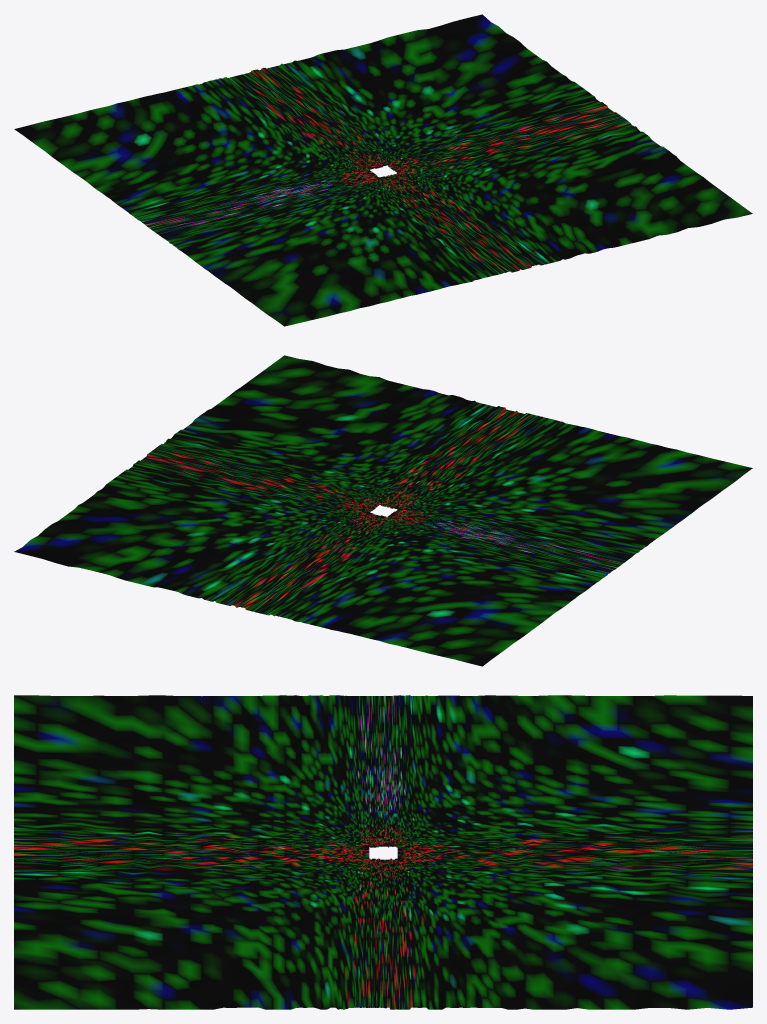
The model's file is SM_AlUla_Backdrop.fbx.
The picture shows the model from 3 angles, top to bottom: view 1: azimuth 30°, elevation 25°; view 2: azimuth 150°, elevation 25°; view 3: azimuth 270°, elevation 25°; orthographic projection. The views are drawn at different scales.
Visible parts, largest first — view 1: SM_AlUla_Backdrop; view 2: SM_AlUla_Backdrop; view 3: SM_AlUla_Backdrop.
Boxes of the visible parts, box(x1,y1,x2,y2) form: SM_AlUla_Backdrop: box(14, 14, 752, 326); SM_AlUla_Backdrop: box(14, 355, 752, 666); SM_AlUla_Backdrop: box(14, 695, 752, 1009).
Size of the model in its own units: 5040346 by 18818 by 5040346.
